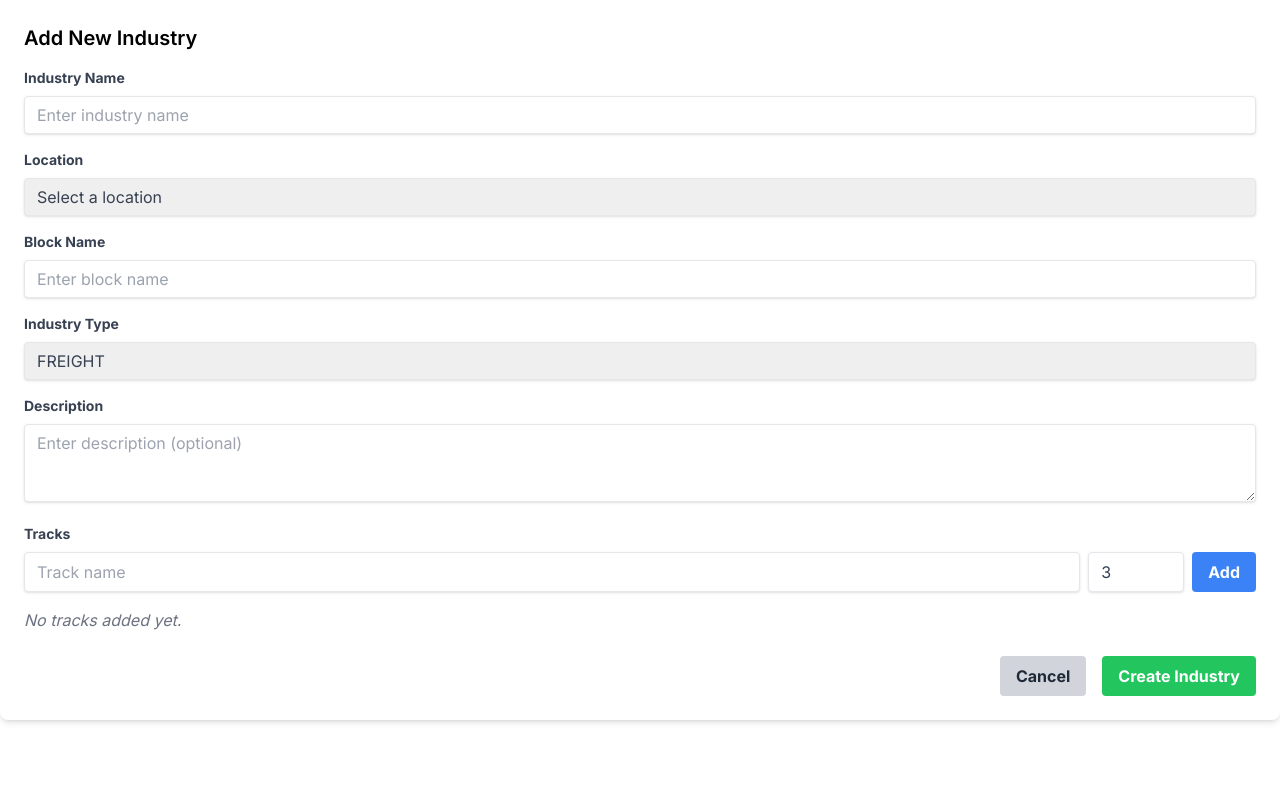
AddIndustryForm › should validate track capacity when adding a track
Expected: the field labelled "Industry Name" is shown, left=24, top=96, right=1256, bottom=134
# Try to add a track with invalid capacity
In the field with placeholder "Track name": (552, 572) left=24, top=552, right=1080, bottom=592, type "Track 1"
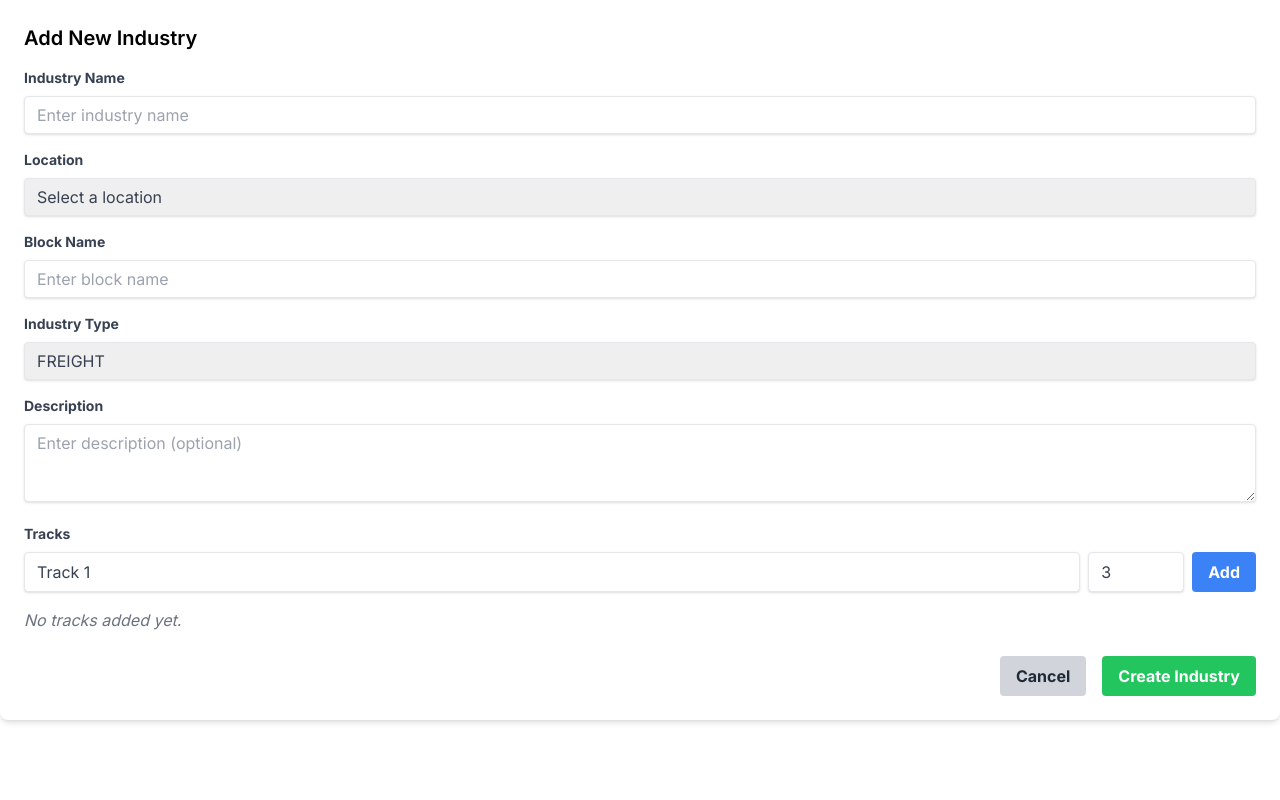
Replace the text in the number field with placeholder "Capacity" with "0": (1136, 572) left=1088, top=552, right=1184, bottom=592
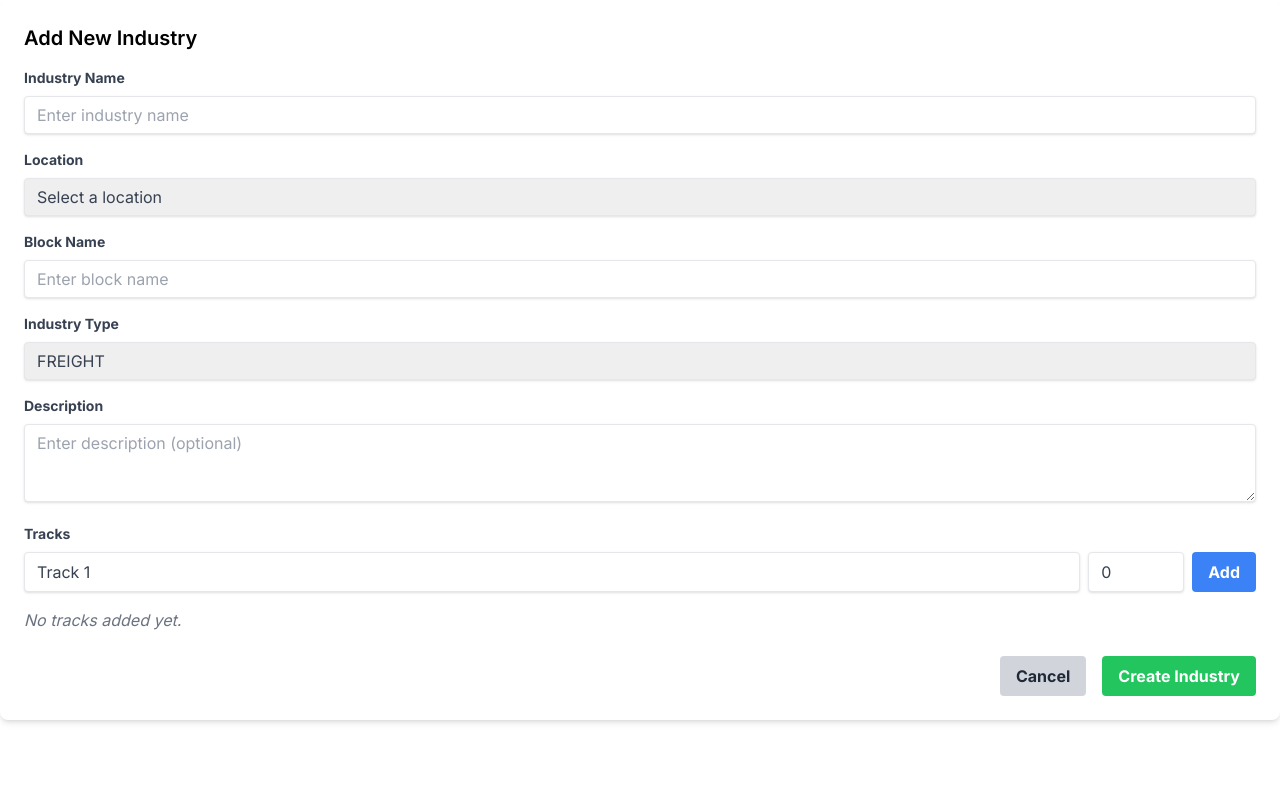
Click the button "Add": click(1224, 572) left=1192, top=552, right=1256, bottom=592
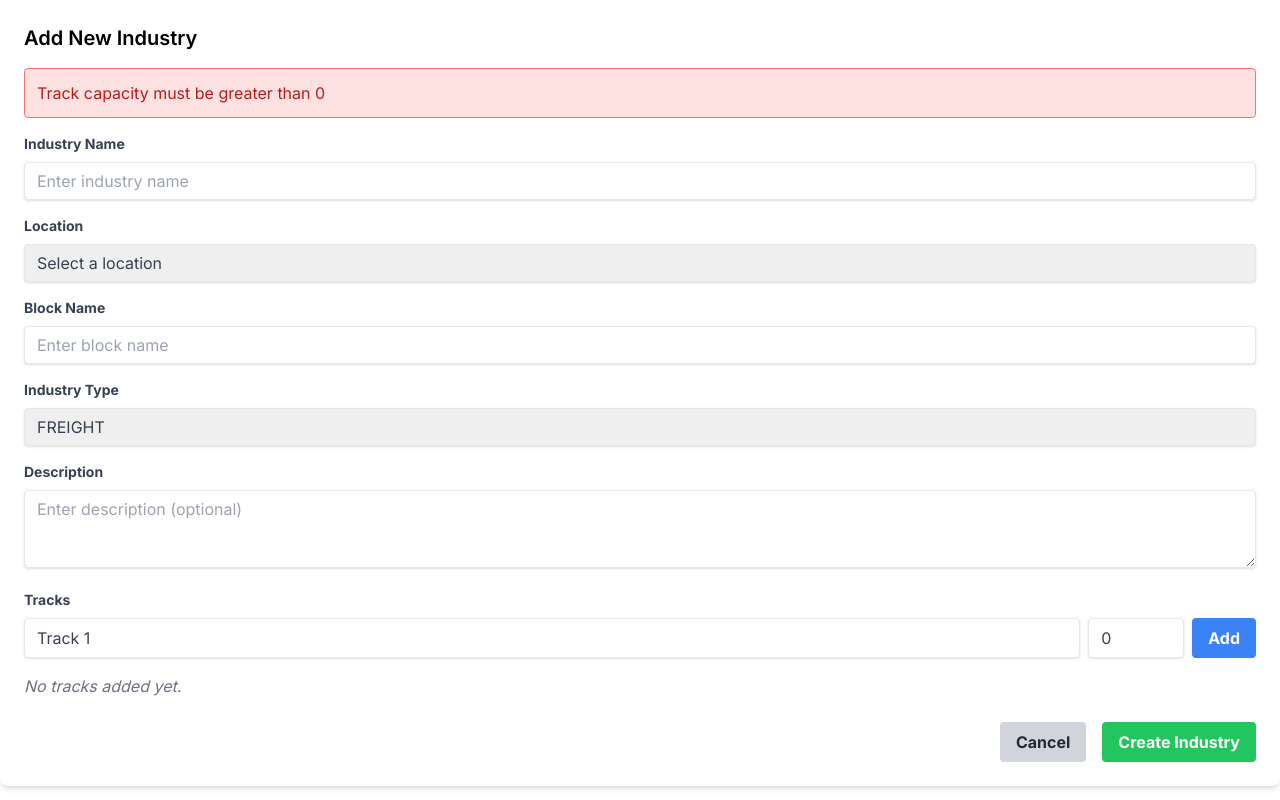
Now the text "Track capacity must be greater than 0" is shown, box left=24, top=68, right=1256, bottom=118
